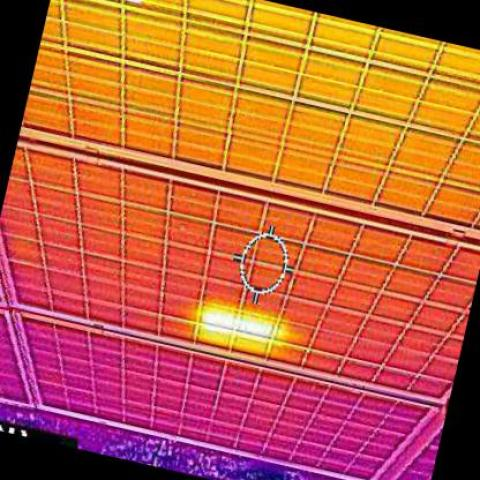fault: (201, 302, 280, 348)
